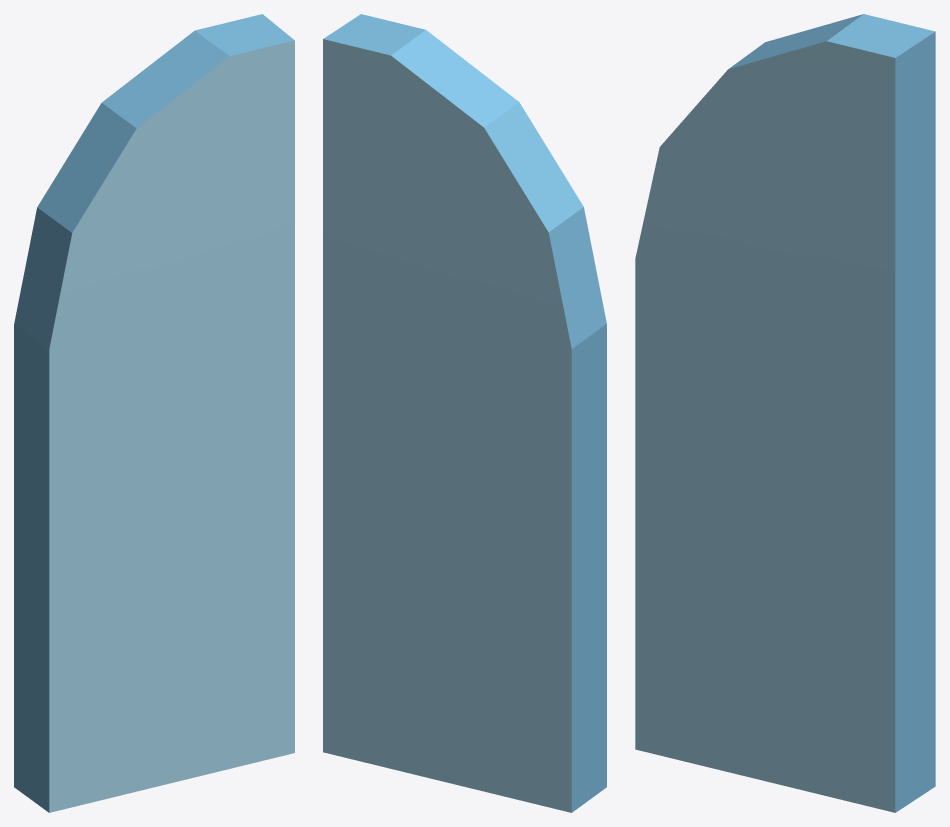
Rendered from door_R.fbx.
3 views of the same model, side by side, from view 1: azimuth 30°, elevation 25°; view 2: azimuth 150°, elevation 25°; view 3: azimuth 330°, elevation 25° (orthographic). The views are drawn at different scales.
Visible parts, largest first — view 1: door_R; view 2: door_R; view 3: door_R.
Boxes of the visible parts, <box> form: door_R: <box>14,14,294,812</box>; door_R: <box>323,14,606,812</box>; door_R: <box>635,14,935,812</box>.
Bounding box in the file's own units: 102 × 280 × 24.95.
